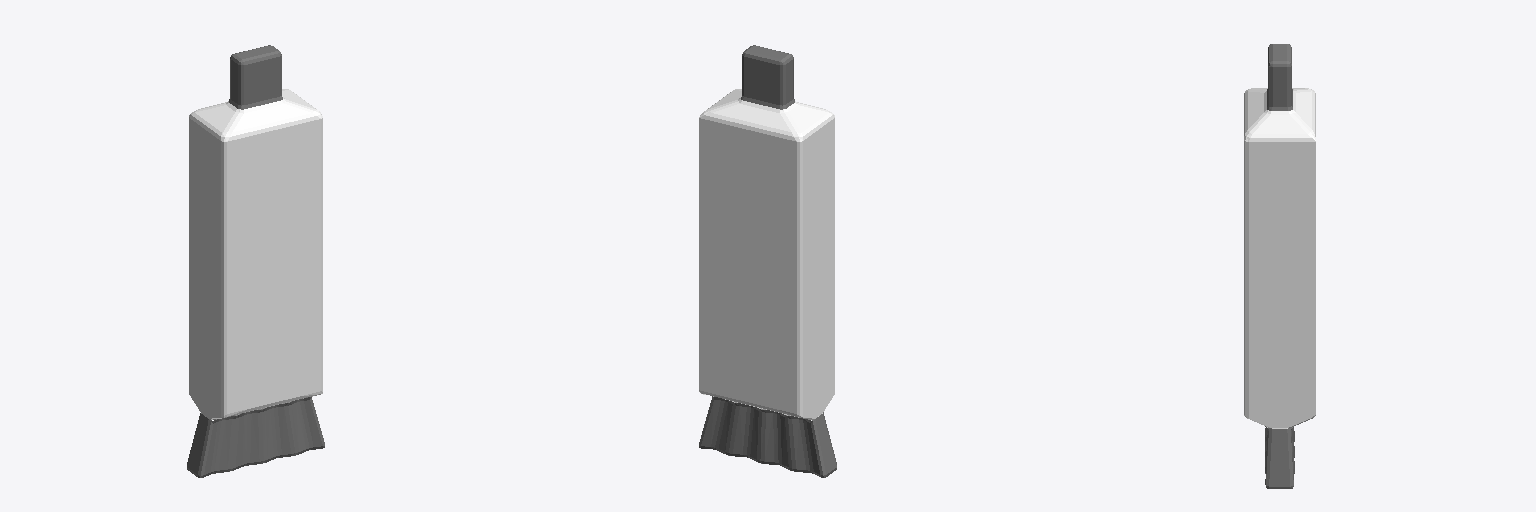
The picture shows the model from 3 angles: view 1: azimuth 30°, elevation 25°; view 2: azimuth 150°, elevation 25°; view 3: azimuth 270°, elevation 25°; orthographic projection.
Parts seen in each view (by area): view 1: Cube; view 2: Cube; view 3: Cube.
Part boxes in pixels (bbox=[...]): Cube: bbox=[187, 45, 324, 477]; Cube: bbox=[699, 45, 836, 477]; Cube: bbox=[1244, 44, 1315, 488].
Bounding box in the file's own units: 1.34 × 4.1 × 0.666.
Materials: 1 (1 with a texture image).